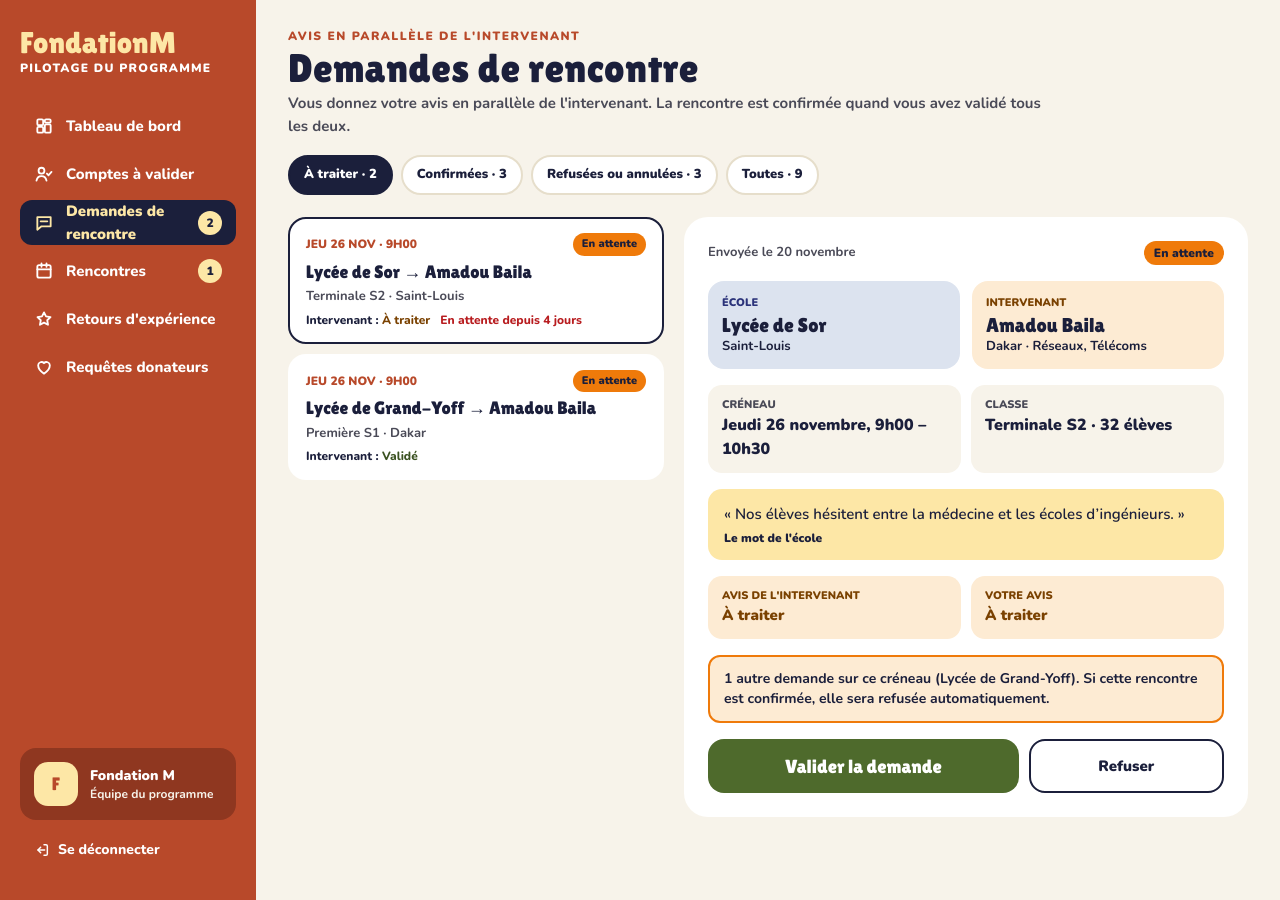
Test case: Demandes de rencontre (Fondation) › affiche l’erreur du serveur à la validation ({"code":"QUELQUE_CHOSE","message":"Le serveur refuse cette décision."})
This screenshot has width=1280, height=900.
What coordinates should you click on to do the following:
click the button "Valider la demande"
I would click on:
 (863, 766)
Its box is [708,739,1019,793].
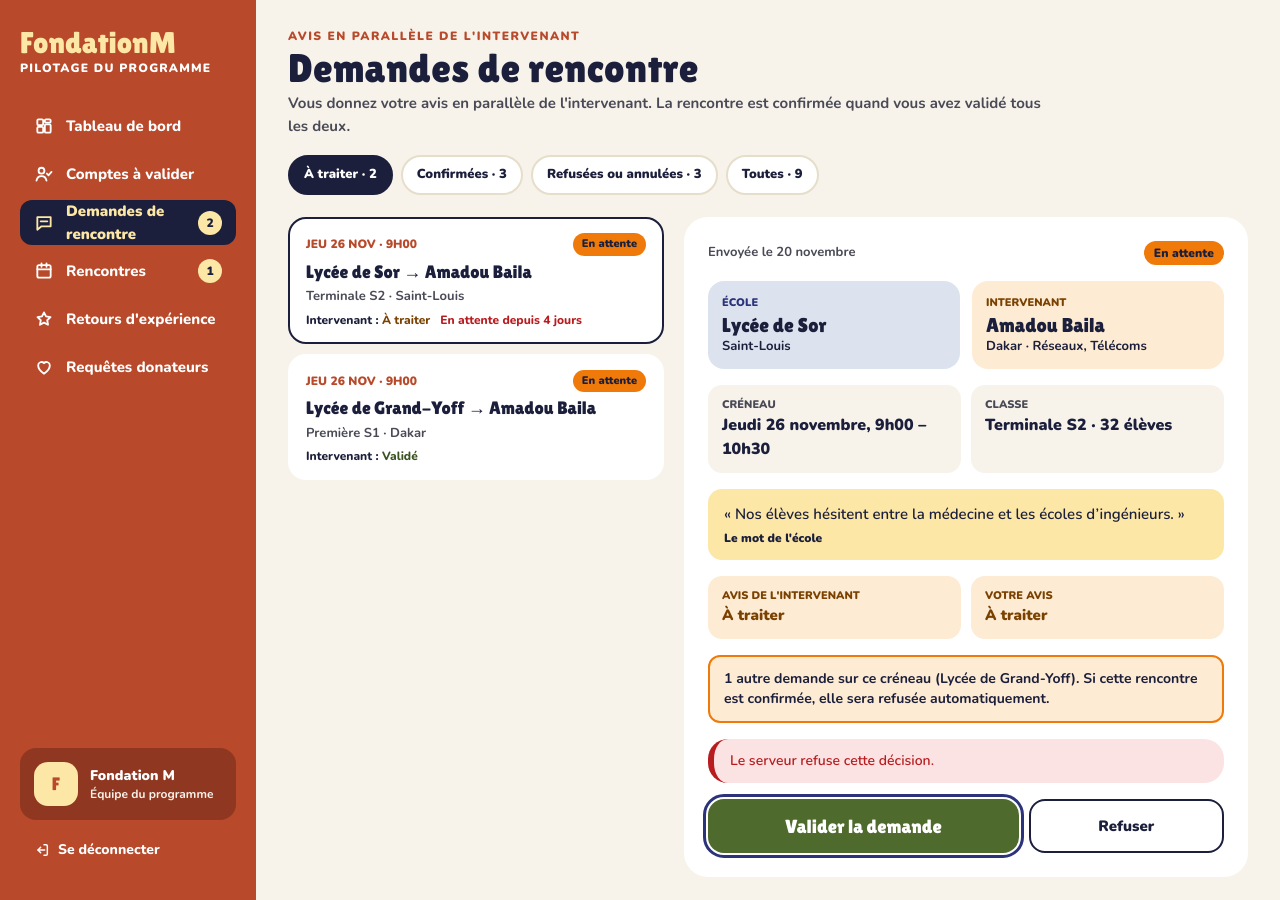
Expected: the message "Le serveur refuse cette décision." is shown, [708,739,1224,783]
